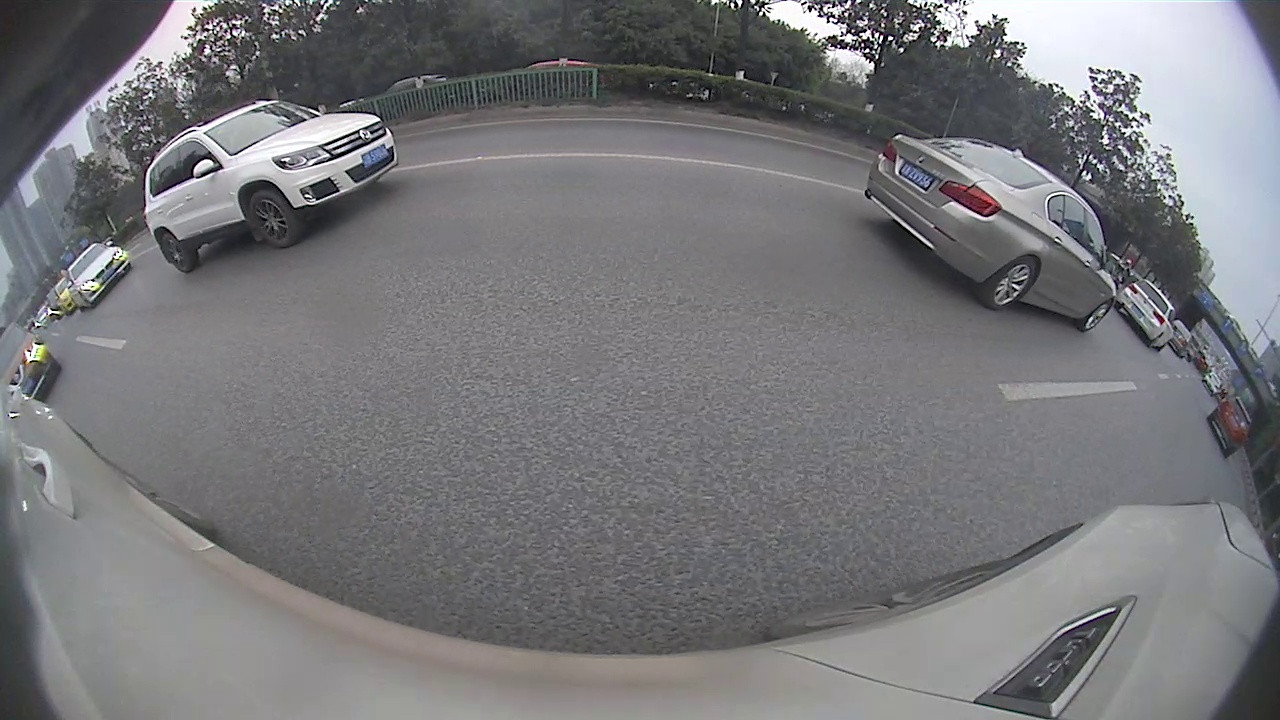car: (865, 131, 1118, 333), (142, 98, 399, 273), (0, 323, 59, 403), (63, 243, 132, 310), (1113, 280, 1178, 351), (1206, 395, 1252, 459)
front: (244, 189, 296, 247), (1078, 297, 1113, 334)
rear: (988, 256, 1036, 312), (162, 234, 194, 274)
